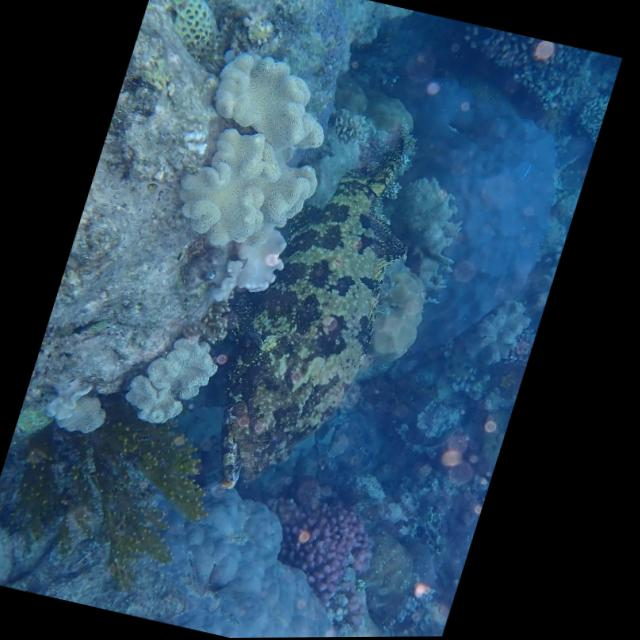Groupers: (186, 129, 437, 510)
